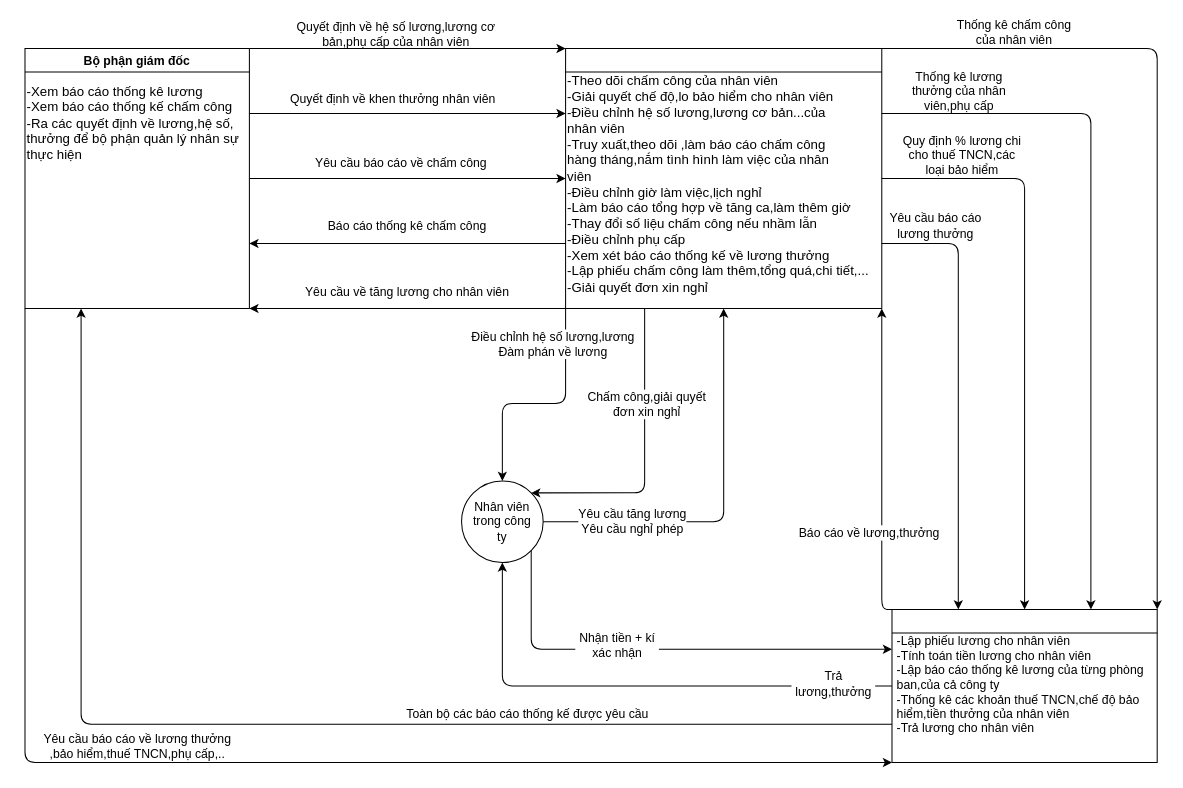
Some shapes in this 1183 by 788 pixel diagram are drawn without their labels. Each missing label, with the box of its shape:
Bộ phận kế toán: (891, 608, 1157, 762)
Bộ phận quản lý nhân sự: (565, 47, 882, 309)
